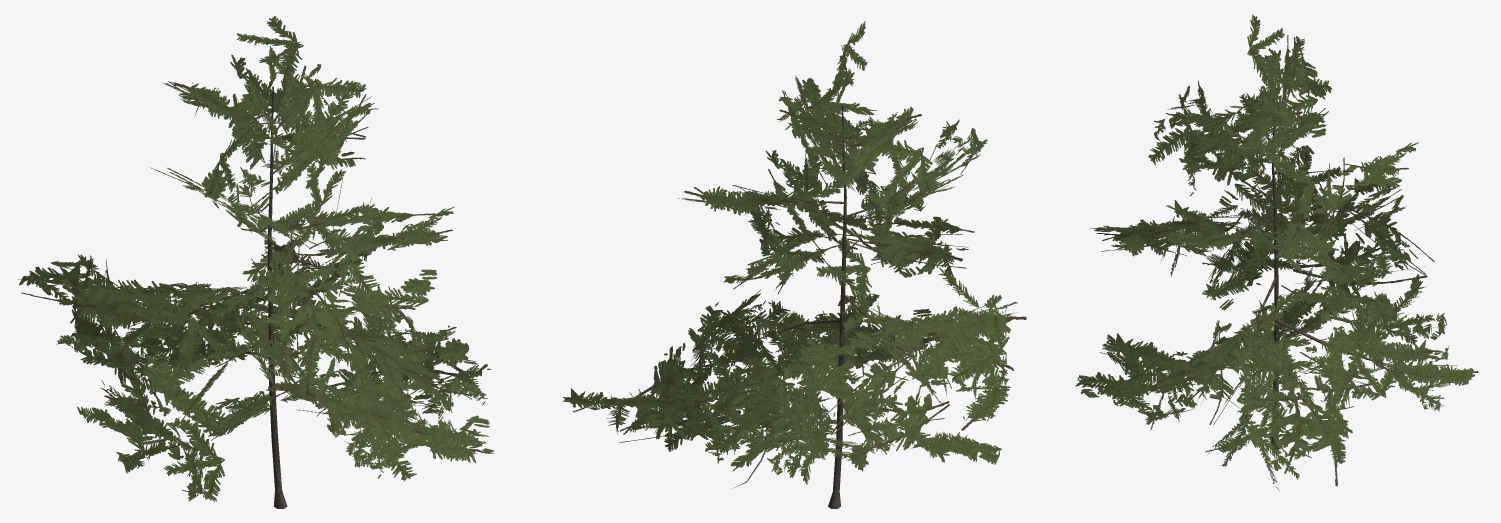
3 renders of one model, left to right at view 1: azimuth 30°, elevation 25°; view 2: azimuth 150°, elevation 25°; view 3: azimuth 270°, elevation 25°, orthographic. The views are drawn at different scales.
Visible parts, largest first — view 1: fir_sapling__c_lod1; view 2: fir_sapling__c_lod1; view 3: fir_sapling__c_lod1.
Boxes of the visible parts, x1,y1,x2,y2 form: fir_sapling__c_lod1: (18, 16, 494, 508); fir_sapling__c_lod1: (562, 21, 1026, 508); fir_sapling__c_lod1: (1075, 14, 1478, 490).
Size of the model in its own units: 0.6819 by 0.745 by 0.6494.
Materials: 2 (2 with a texture image).
